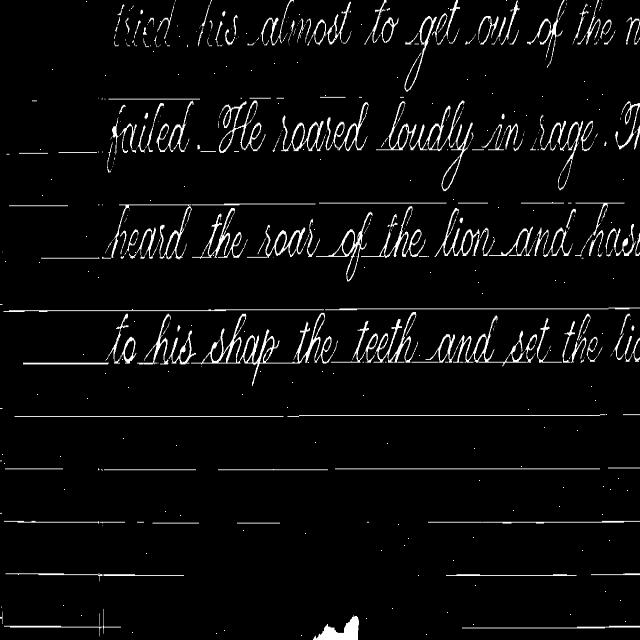hand: (314, 616, 358, 639)
noise: (14, 411, 606, 419), (215, 465, 640, 473), (0, 609, 121, 636), (3, 307, 640, 311), (118, 202, 448, 208), (6, 571, 184, 581), (428, 517, 640, 525), (446, 568, 577, 578), (99, 97, 201, 106), (2, 519, 126, 525), (96, 466, 202, 473), (520, 202, 624, 209), (462, 625, 640, 629), (23, 359, 109, 364), (590, 569, 640, 577), (4, 466, 66, 472), (38, 256, 106, 261), (236, 517, 280, 524), (150, 518, 200, 524), (331, 353, 352, 364), (18, 151, 56, 156), (240, 97, 286, 101), (362, 248, 380, 257), (316, 95, 348, 100), (56, 150, 100, 153), (200, 148, 216, 156), (488, 357, 504, 365), (456, 202, 488, 206), (8, 204, 68, 206), (315, 251, 334, 256), (28, 95, 38, 104), (542, 359, 562, 363), (267, 361, 292, 364), (136, 519, 149, 524), (411, 360, 427, 364)
not-noise: (113, 0, 640, 90), (480, 111, 598, 189), (381, 100, 474, 191), (102, 204, 248, 260), (108, 100, 194, 171), (200, 313, 278, 383), (273, 102, 369, 151), (500, 208, 576, 257), (352, 312, 416, 363), (426, 316, 498, 361), (580, 204, 640, 256), (136, 313, 196, 363), (332, 212, 372, 281), (438, 208, 494, 256), (218, 99, 266, 152), (379, 206, 429, 256), (253, 221, 320, 258), (292, 312, 338, 362), (504, 318, 550, 364), (562, 314, 602, 362), (106, 315, 139, 364), (106, 314, 136, 364), (611, 313, 640, 362), (280, 221, 320, 256), (616, 101, 640, 148), (218, 102, 246, 139), (402, 312, 416, 362), (246, 100, 258, 119), (250, 123, 264, 139), (394, 346, 400, 361), (197, 144, 200, 149), (604, 140, 606, 146)
